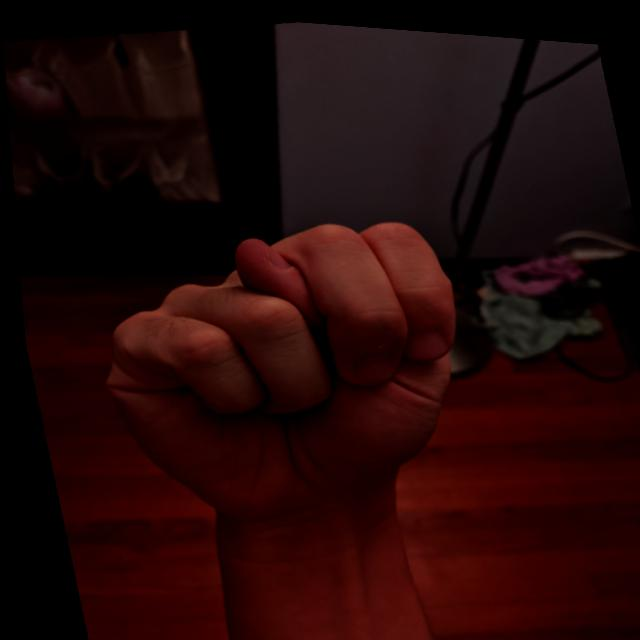N: (57, 181, 505, 550)
